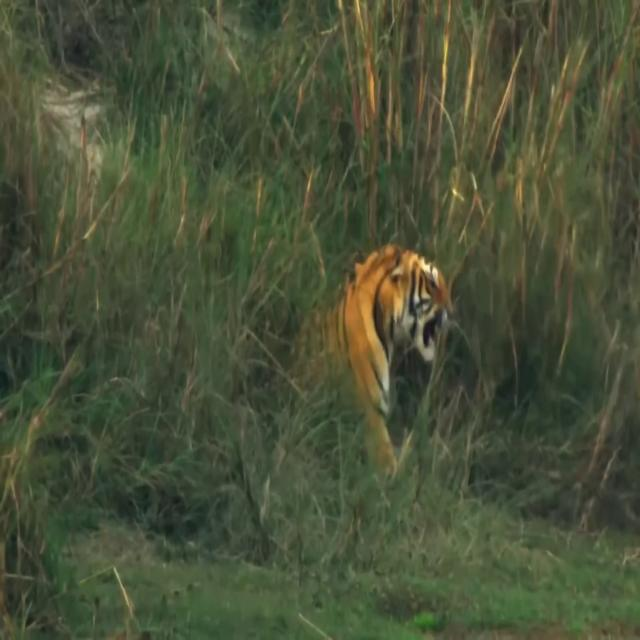tiger: (292, 243, 455, 484)
